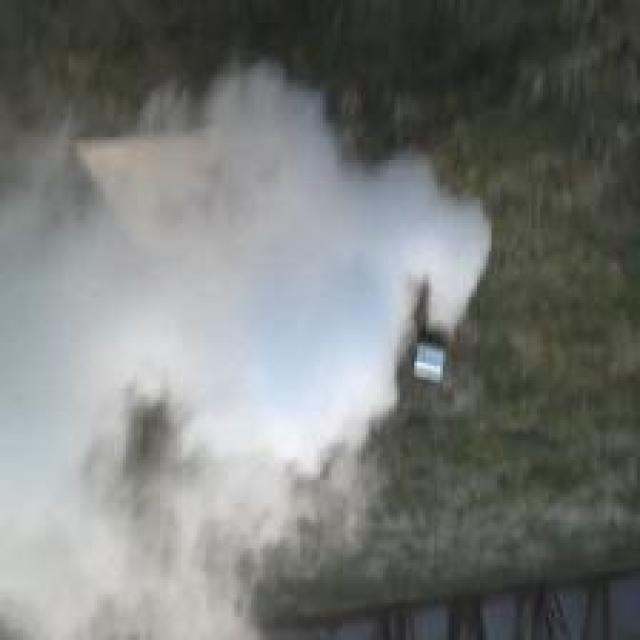Smoke: (1, 61, 495, 640)
